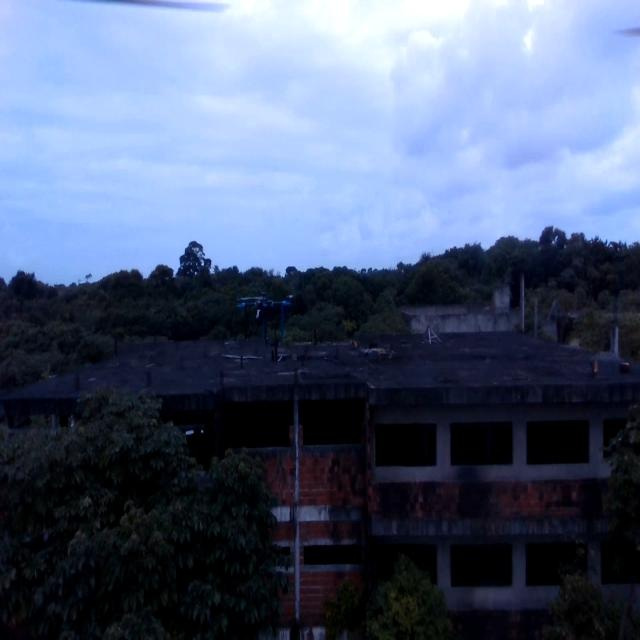-uav-: (225, 280, 301, 353)
